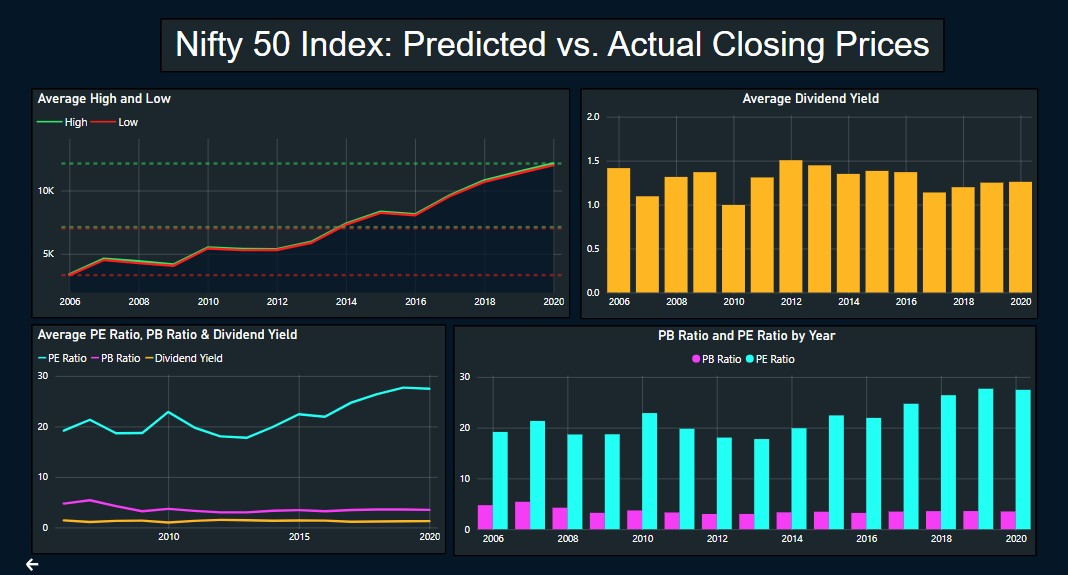

This screenshot's page, from the dashboard's own definition file:
{"tool":"powerbi","page":{"name":"Page 2","canvas":[1280,720],"ordinal":1},"visuals":[{"type":"areaChart","title":"Average High and Low","fields":{"Y":["Avg(Nifty50_Index_data.High)","Avg(Nifty50_Index_data.Low)"],"Category":["Nifty50_Index_data.Date.Variation.Date Hierarchy.Year","Nifty50_Index_data.Date.Variation.Date Hierarchy.Quarter","Nifty50_Index_data.Date.Variation.Date Hierarchy.Month"]},"box":[9.8,109.6,673.6,288],"z":0},{"type":"clusteredColumnChart","fields":{"Y":["Avg(Nifty50_Index_data.pb_ratio)","Avg(Nifty50_Index_data.pe_ratio)"],"Category":["Nifty50_Index_data.Date.Variation.Date Hierarchy.Year"]},"box":[538,405.7,730,288.6],"z":1000},{"type":"clusteredColumnChart","title":"Average Dividend Yield","fields":{"Category":["Nifty50_Index_data.Date.Variation.Date Hierarchy.Year","Nifty50_Index_data.Date.Variation.Date Hierarchy.Quarter"],"Y":["Avg(Nifty50_Index_data.dividend_yield)"]},"box":[695.7,110,572.9,288.6],"z":2000},{"type":"lineChart","title":"Average PE Ratio, PB Ratio & Dividend Yield","fields":{"Category":["Nifty50_Index_data.Date.Variation.Date Hierarchy.Year","Nifty50_Index_data.Date.Variation.Date Hierarchy.Quarter","Nifty50_Index_data.Date.Variation.Date Hierarchy.Month","Nifty50_Index_data.Date.Variation.Date Hierarchy.Day"],"Y":["Avg(Nifty50_Index_data.pe_ratio)","Avg(Nifty50_Index_data.pb_ratio)","Avg(Nifty50_Index_data.dividend_yield)"]},"box":[10,405,518.9,287.7],"z":3000},{"type":"actionButton","box":[0,694.4,30.5,24.4],"z":4000},{"type":"textbox","box":[170.8,22,981,68],"z":5000}]}

Visuals, with their boxes on the page's 1280x720 design canvas (x1, y1, x2, y2). These are canvas units, not pixel positions in the 1068x575 screenshot, which may show the page scaled, cropped or inside an application window:
"Average High and Low" areaChart: select_region(10, 110, 683, 398)
clusteredColumnChart - Avg(Nifty50_Index_data.pb_ratio) x Avg(Nifty50_Index_data.pe_ratio): select_region(538, 406, 1268, 694)
"Average Dividend Yield" clusteredColumnChart: select_region(696, 110, 1269, 399)
"Average PE Ratio, PB Ratio & Dividend Yield" lineChart: select_region(10, 405, 529, 693)
actionButton: select_region(0, 694, 30, 719)
textbox: select_region(171, 22, 1152, 90)
